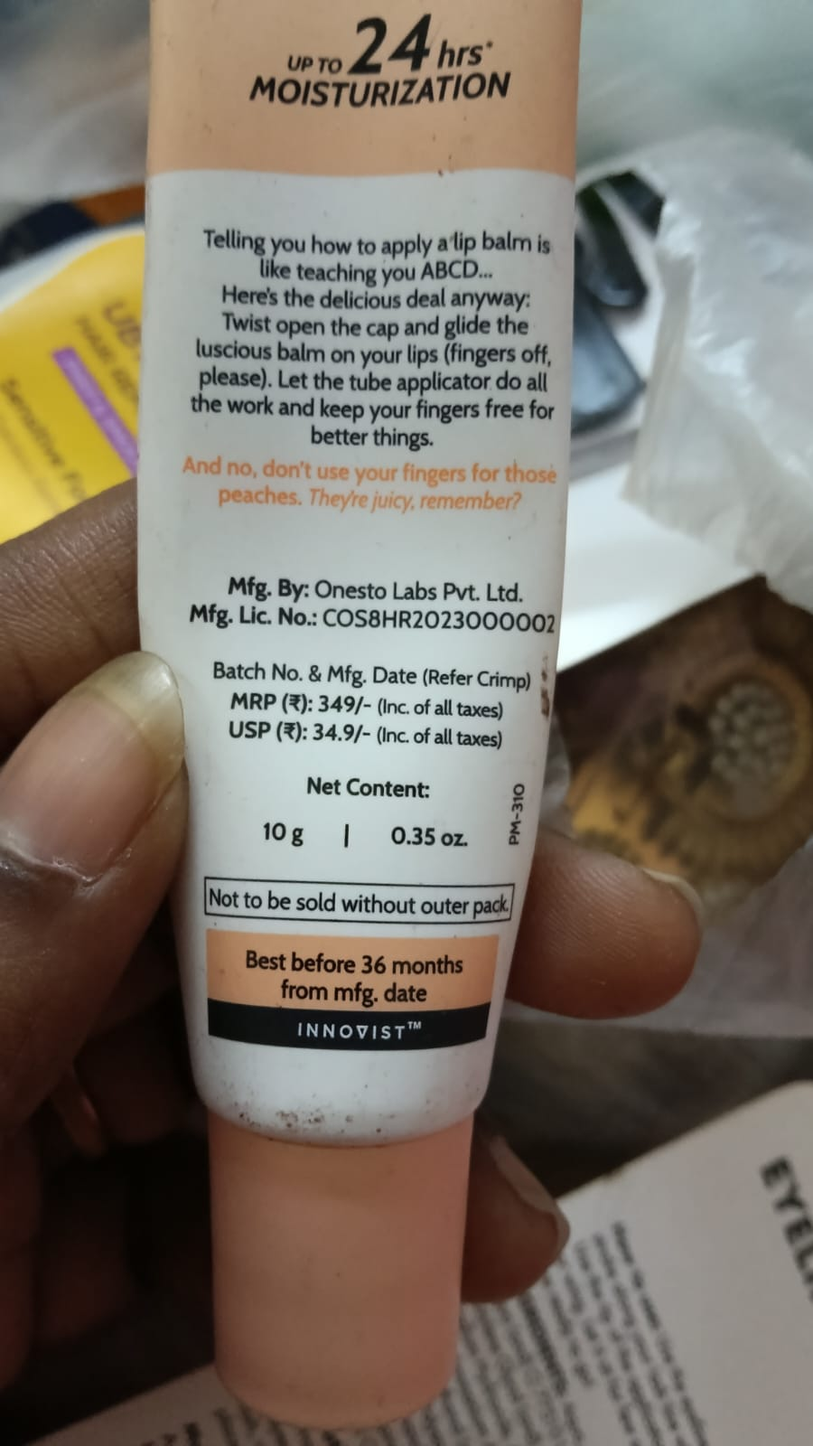brand_panel: (281, 1013, 434, 1048)
manufacturer: (217, 559, 549, 610)
mrp: (227, 685, 387, 718)
net_qty: (243, 805, 314, 844)
